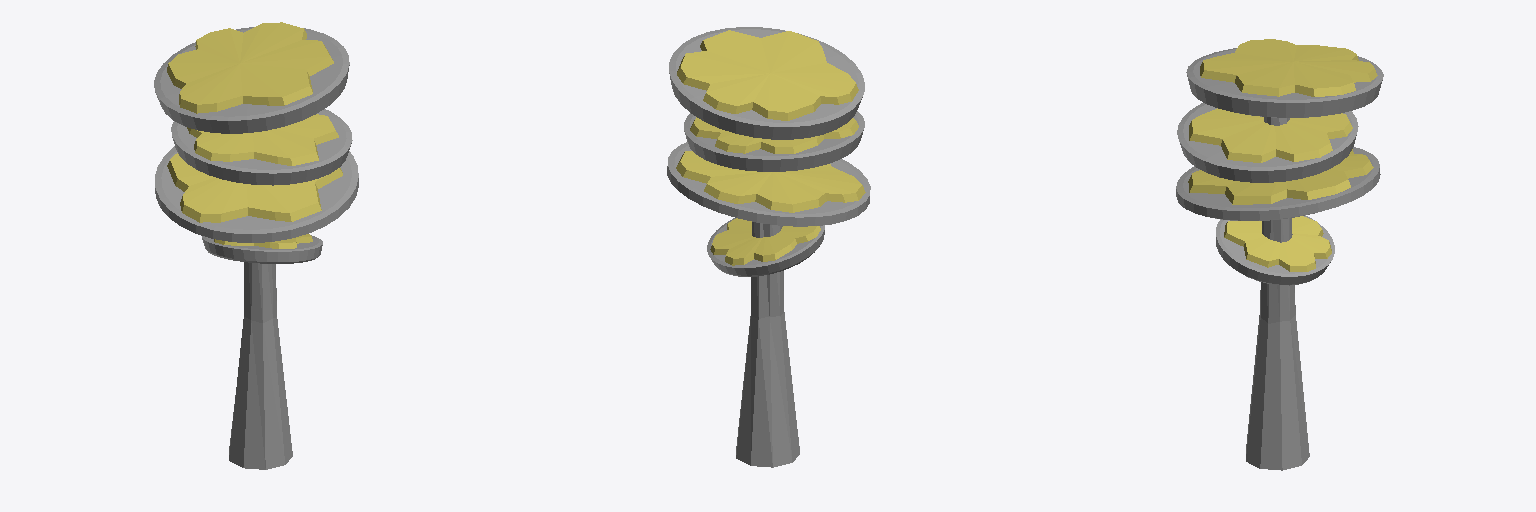
3 views of the same model, side by side, from view 1: azimuth 30°, elevation 25°; view 2: azimuth 150°, elevation 25°; view 3: azimuth 270°, elevation 25° (orthographic).
Parts seen in each view (by area): view 1: Cylinder.001_Cylinder.002, wood_Cylinder; view 2: Cylinder.001_Cylinder.002, wood_Cylinder; view 3: Cylinder.001_Cylinder.002, wood_Cylinder.
Boxes of the visible parts, x1,y1,x2,y2 form: Cylinder.001_Cylinder.002: [154, 22, 358, 263]; wood_Cylinder: [229, 262, 292, 469]; Cylinder.001_Cylinder.002: [667, 27, 870, 276]; wood_Cylinder: [736, 222, 799, 467]; Cylinder.001_Cylinder.002: [1176, 39, 1383, 285]; wood_Cylinder: [1246, 117, 1309, 470].
Bounding box in the file's own units: 1.43 × 3.09 × 1.46.
3 materials, 1 textured.